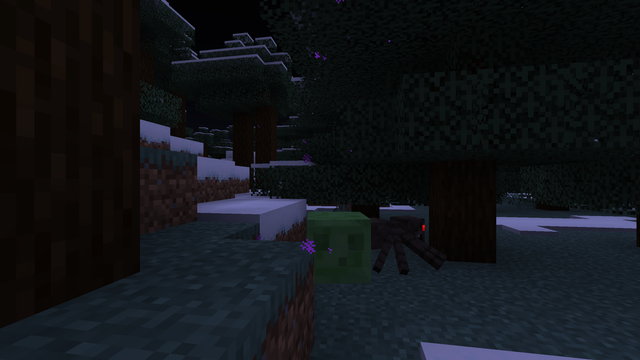araignees: (371, 210, 433, 271)
slimes: (300, 209, 366, 286)
